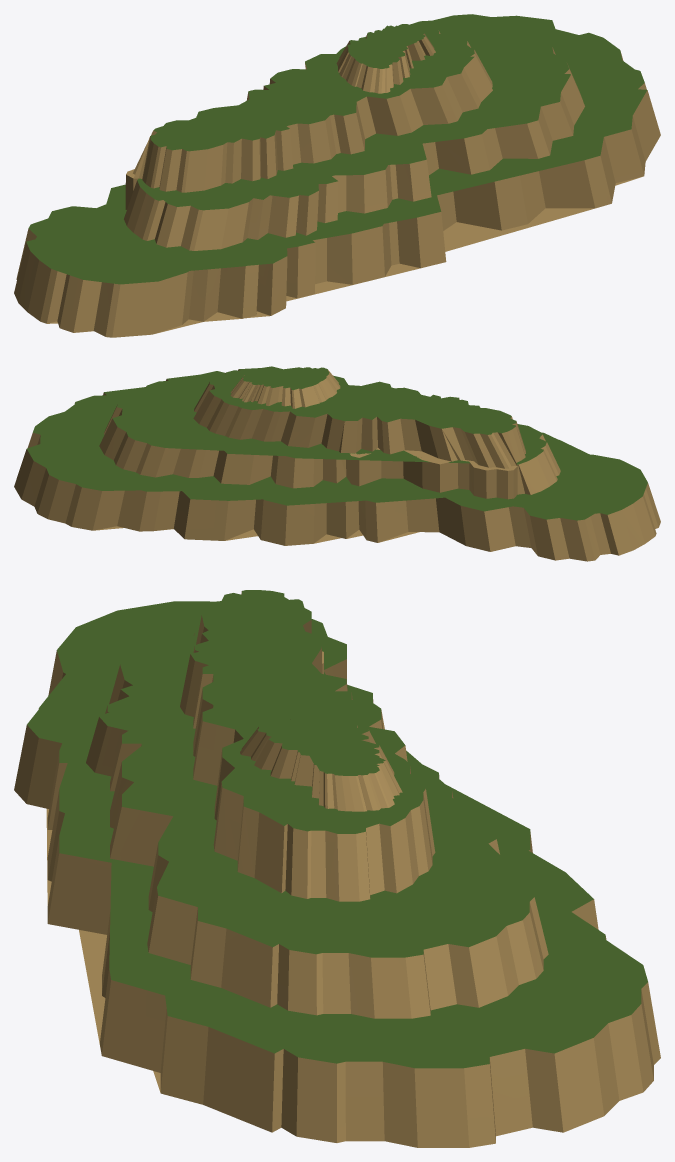
File: Terrain_Hill_Jagged_Dirt_Grass_01.fbx
3 renders of one model, top to bottom at view 1: azimuth 30°, elevation 25°; view 2: azimuth 150°, elevation 25°; view 3: azimuth 270°, elevation 25°, orthographic. The views are drawn at different scales.
Parts seen in each view (by area): view 1: Terrain_Hill_Jagged_Dirt_Grass_01; view 2: Terrain_Hill_Jagged_Dirt_Grass_01; view 3: Terrain_Hill_Jagged_Dirt_Grass_01.
Boxes of the visible parts, bbox=[...] form: Terrain_Hill_Jagged_Dirt_Grass_01: bbox=[14, 14, 660, 337]; Terrain_Hill_Jagged_Dirt_Grass_01: bbox=[14, 366, 660, 561]; Terrain_Hill_Jagged_Dirt_Grass_01: bbox=[14, 590, 660, 1147].
Bounding box in the file's own units: 1107 × 216 × 623.
